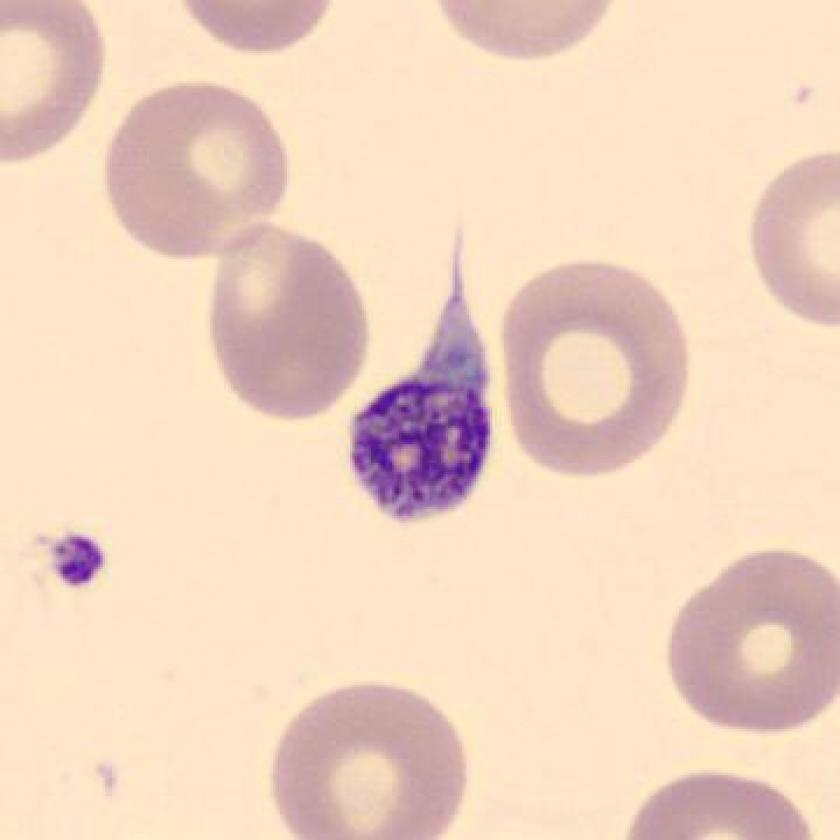platelets: (330, 353, 503, 529), (34, 526, 111, 596)
